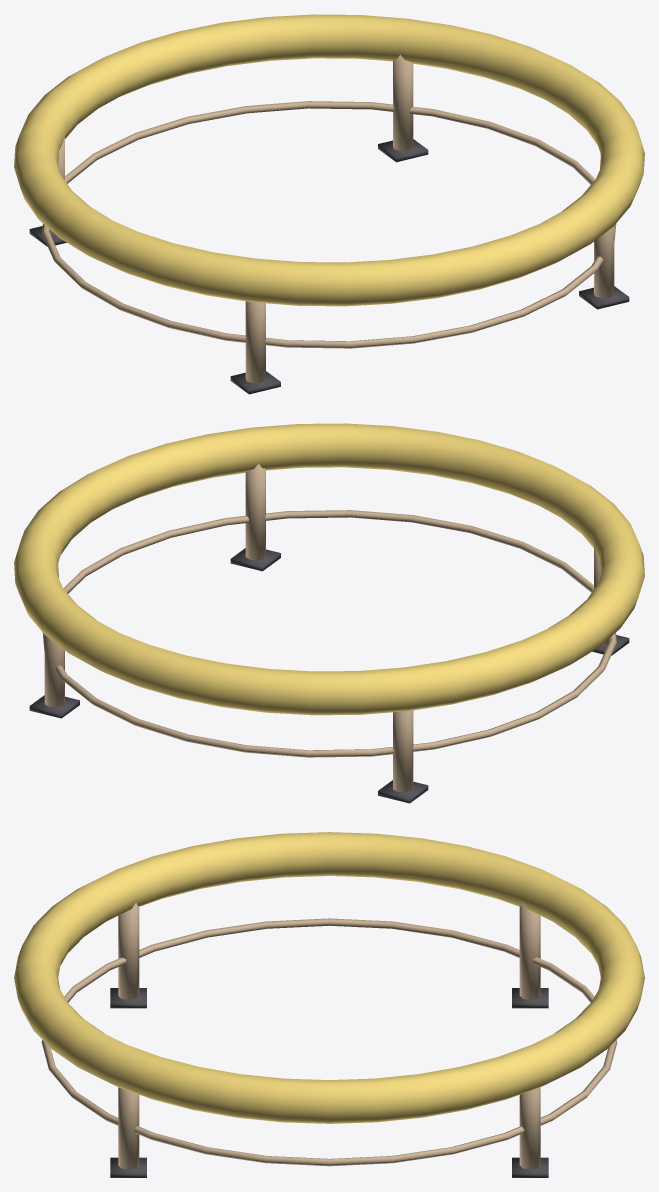
File: trampoline.glb
3 renders of one model, top to bottom at view 1: azimuth 30°, elevation 25°; view 2: azimuth 150°, elevation 25°; view 3: azimuth 270°, elevation 25°, orthographic.
Visible parts, largest first — view 1: trampoline; view 2: trampoline; view 3: trampoline.
Part boxes in pixels (bbox=[...]): trampoline: bbox=[14, 14, 644, 394]; trampoline: bbox=[14, 423, 644, 803]; trampoline: bbox=[14, 832, 644, 1177].
Size of the model in its own units: 2.4 by 0.5299 by 2.4.
